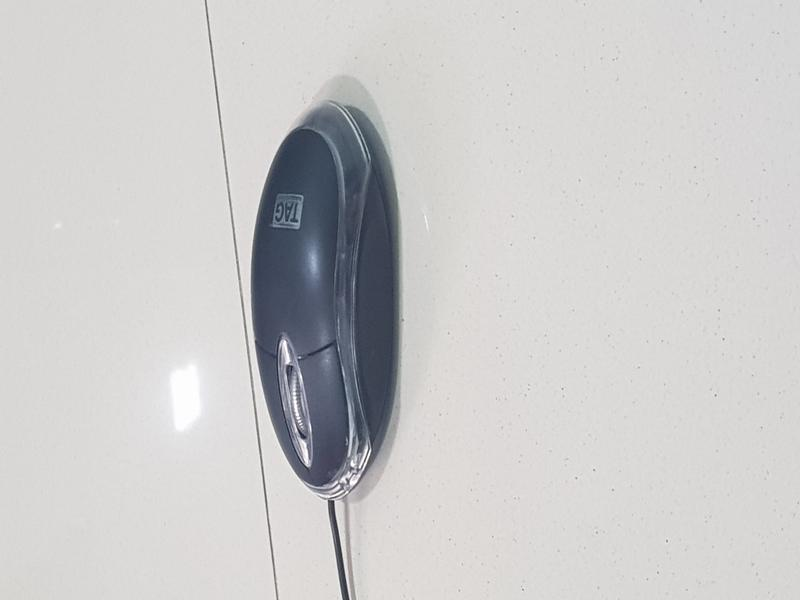mouse: (231, 80, 483, 513)
